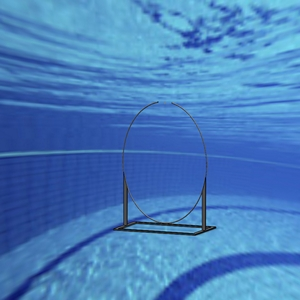circle: (113, 99, 218, 237)
